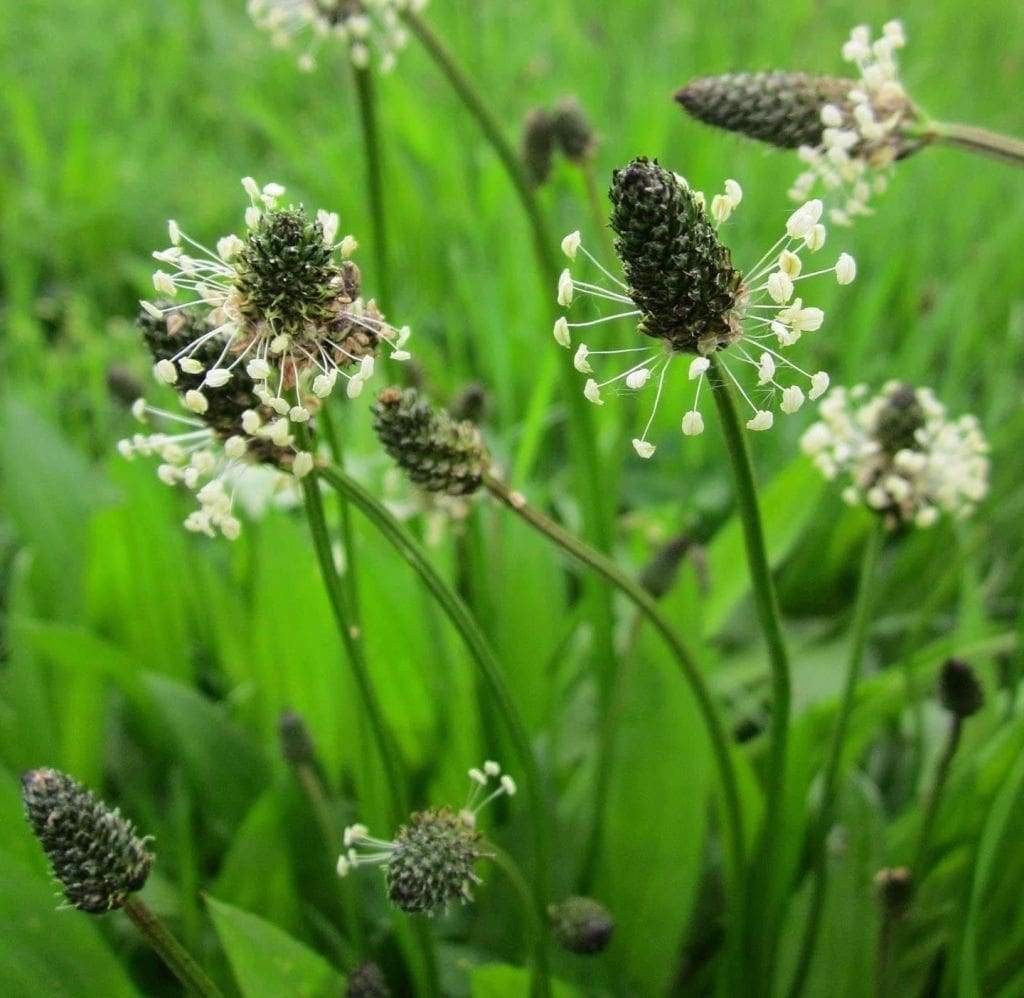buckhorn plantain: (70, 21, 1004, 987)
